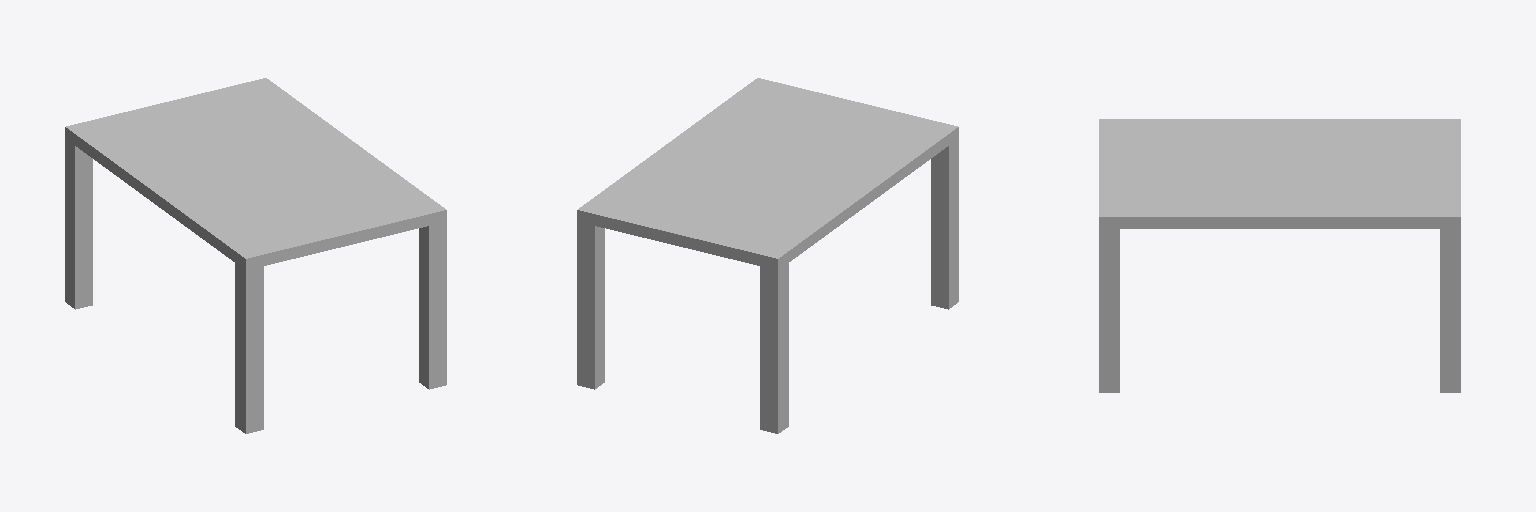
File: table.obj
The picture shows the model from 3 angles: view 1: azimuth 30°, elevation 25°; view 2: azimuth 150°, elevation 25°; view 3: azimuth 270°, elevation 25°; orthographic projection.
Visible parts, largest first — view 1: table_Cube.008; view 2: table_Cube.008; view 3: table_Cube.008.
Part boxes in pixels (x1,y1,x2,y2): table_Cube.008: (65, 78, 446, 433); table_Cube.008: (577, 78, 958, 433); table_Cube.008: (1099, 119, 1460, 392).
Size of the model in its own units: 1.28 by 1.07 by 1.99.